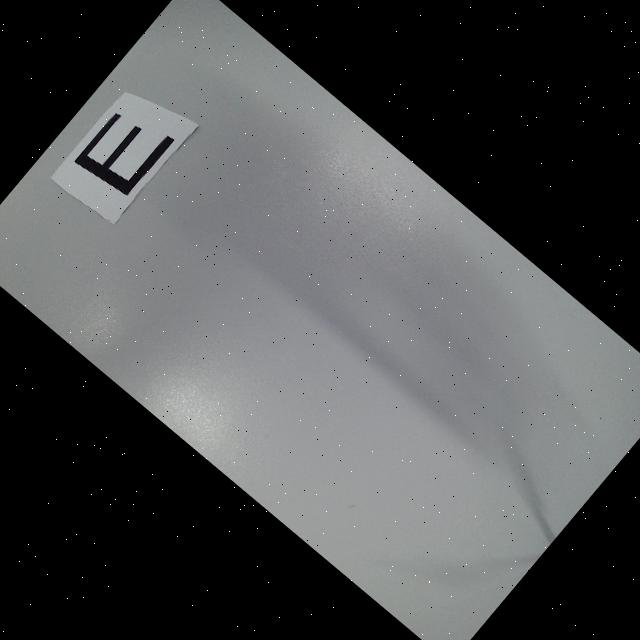FAKE: (72, 98, 175, 203)
